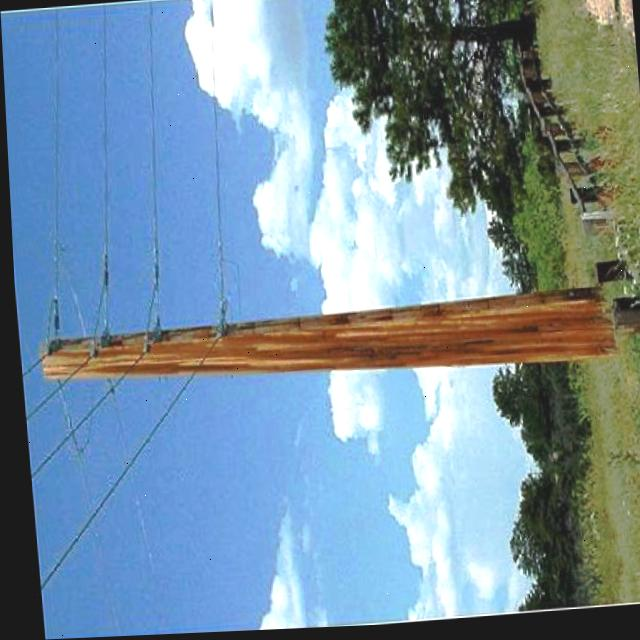poles: (20, 222, 613, 461)
wires: (29, 15, 241, 325), (23, 350, 183, 618)
